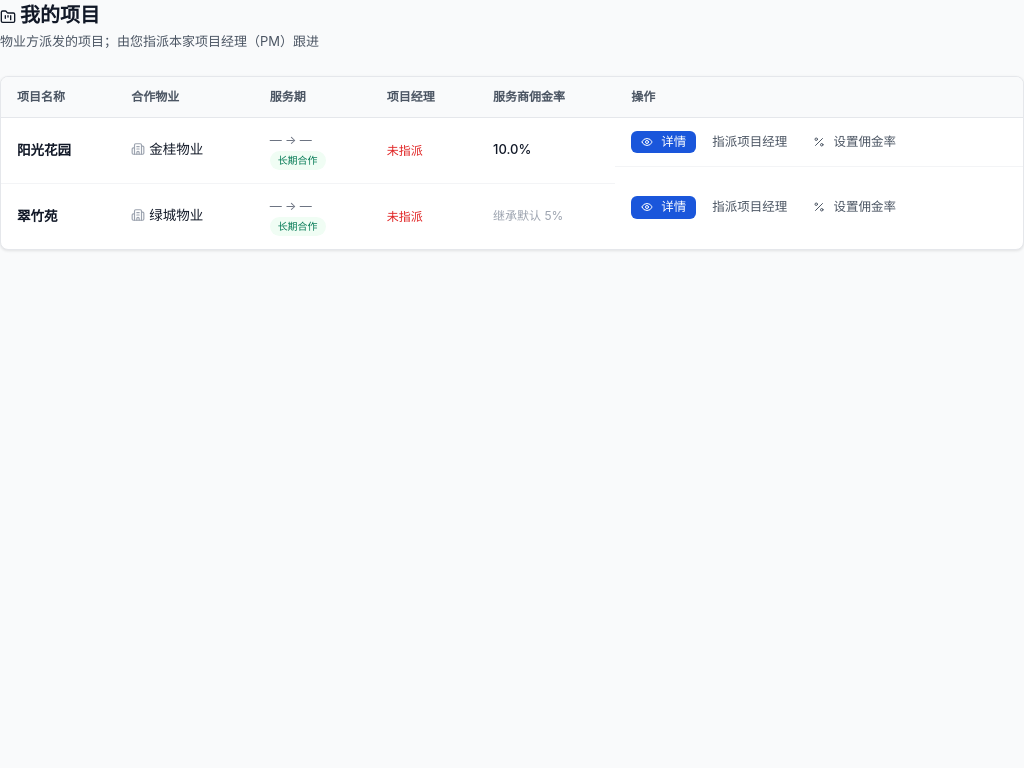
Test: 服务商项目 — D2 佣金率列 › opens CommissionRateModal when 设置佣金率 button is clicked
Click the button "设置佣金率" in the row of "阳光花园": (855,142) [803, 130, 906, 153]
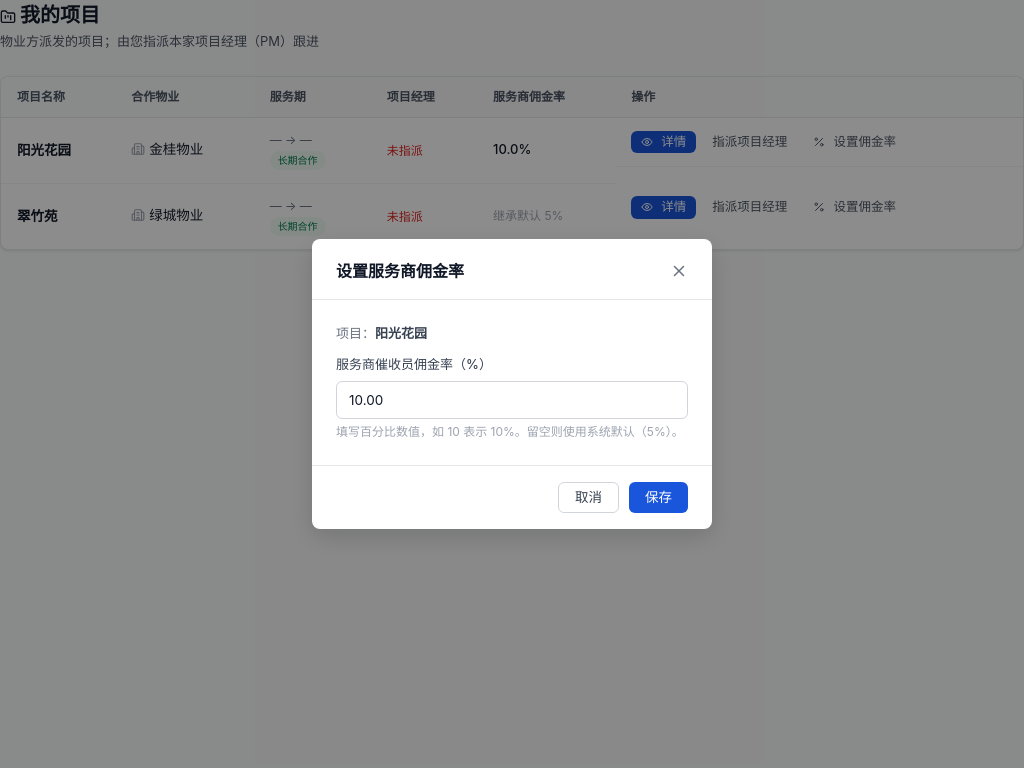
Expected: the text "设置服务商佣金率" is shown, [336, 259, 464, 283]
